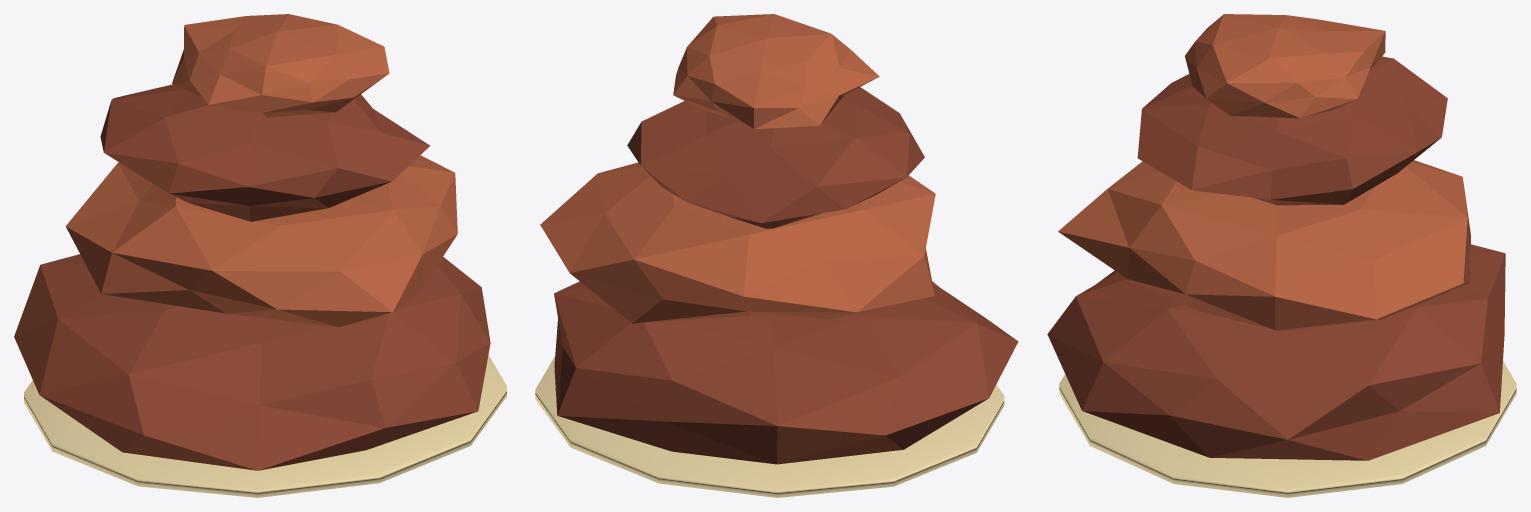
File: RockMesa.glb
3 views of the same model, side by side, from view 1: azimuth 30°, elevation 25°; view 2: azimuth 150°, elevation 25°; view 3: azimuth 270°, elevation 25° (orthographic). The views are drawn at different scales.
Parts seen in each view (by area): view 1: Body; view 2: Body; view 3: Body.
Boxes of the visible parts, bbox=[...] form: Body: bbox=[14, 14, 506, 497]; Body: bbox=[535, 14, 1018, 497]; Body: bbox=[1047, 14, 1516, 497].
Size of the model in its own units: 5.53 by 4.55 by 5.08.
Materials: 1 (1 with a texture image).
